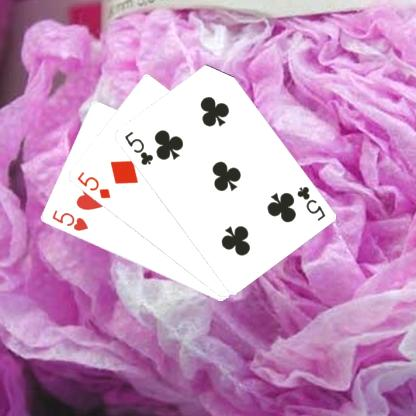5C: (293, 183, 327, 222), (121, 128, 154, 166)
5D: (74, 169, 112, 200)
5H: (48, 207, 90, 232)
